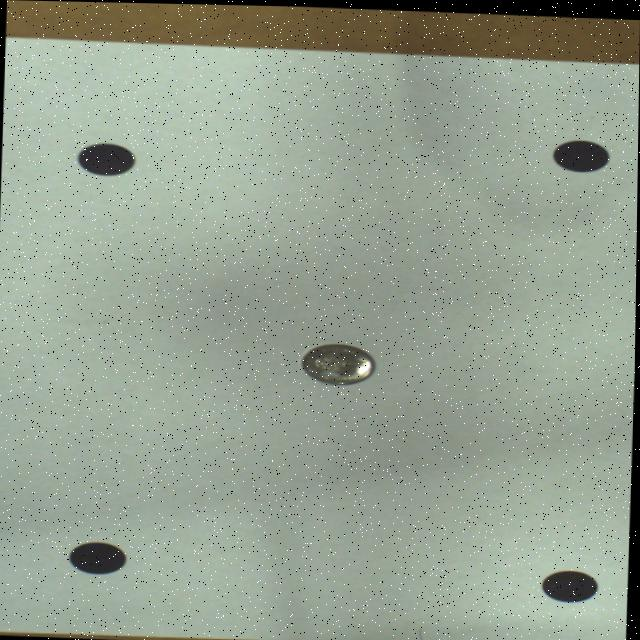space: (76, 142, 135, 175), (542, 567, 599, 599), (69, 541, 126, 573), (553, 137, 609, 169)
tail1bath: (303, 342, 373, 383)
